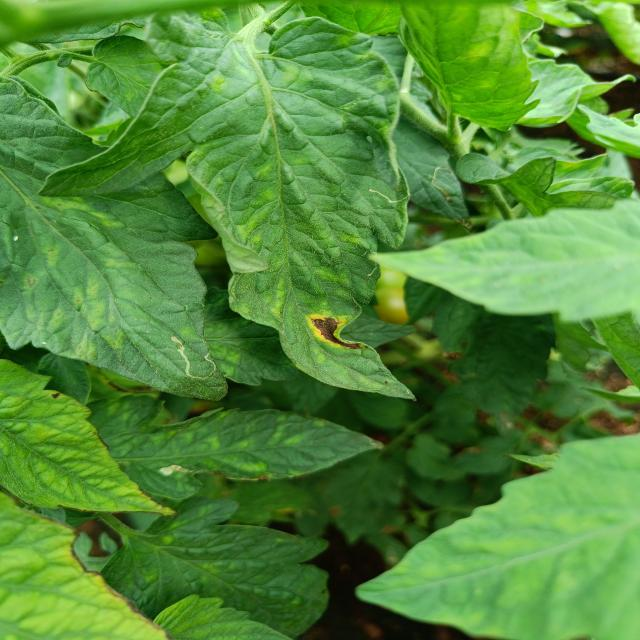Tomato mosaic virus leaf: (220, 231, 424, 405)
